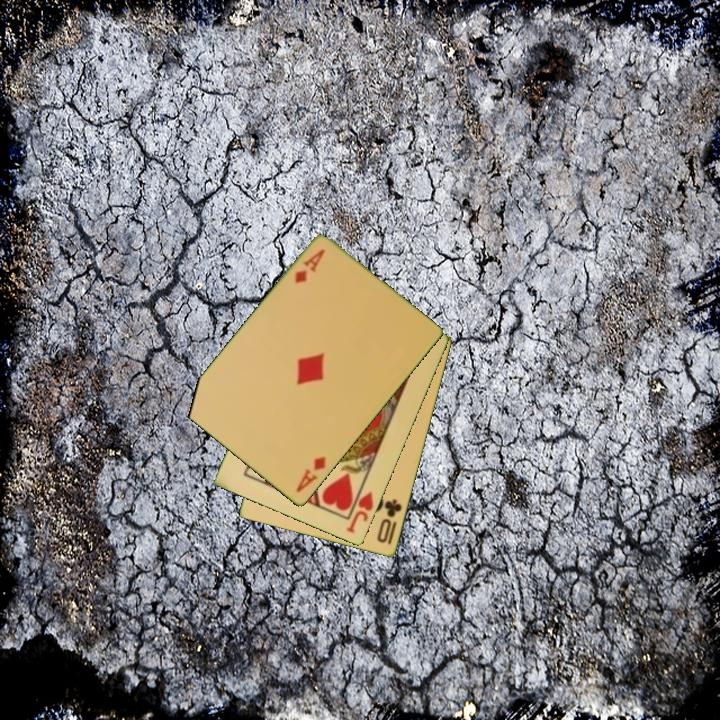10c: (374, 496, 405, 546)
Ad: (292, 453, 329, 496), (291, 246, 328, 287)
Jh: (343, 489, 376, 537)
